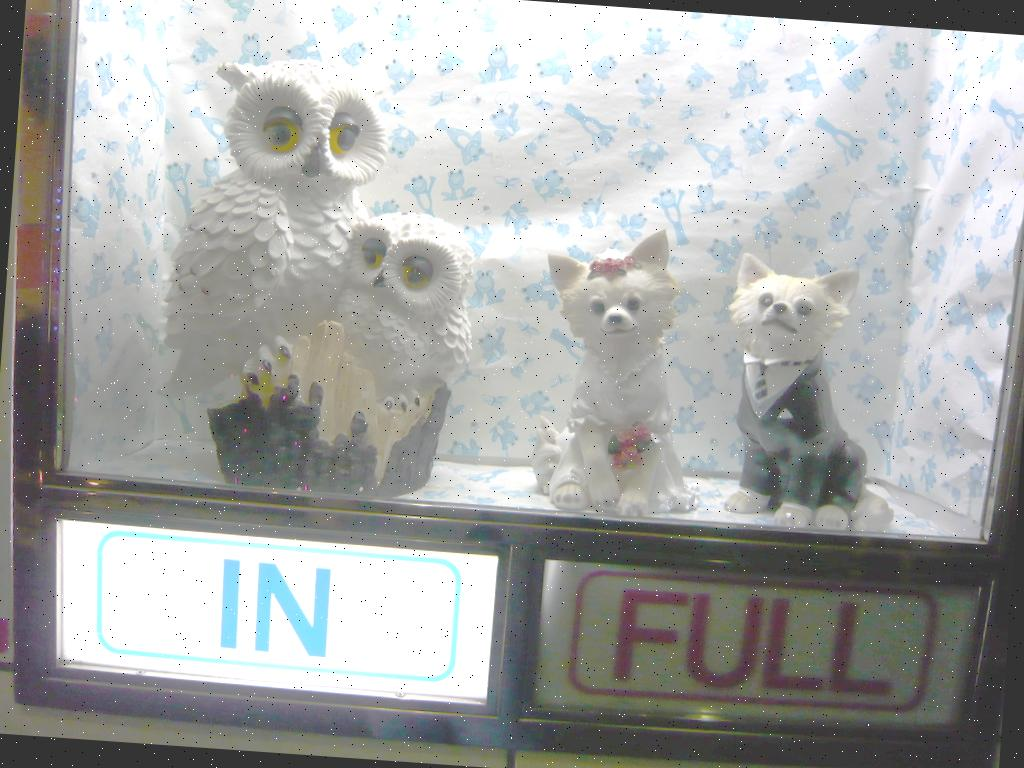Owl: (154, 55, 396, 426), (322, 206, 485, 420)
